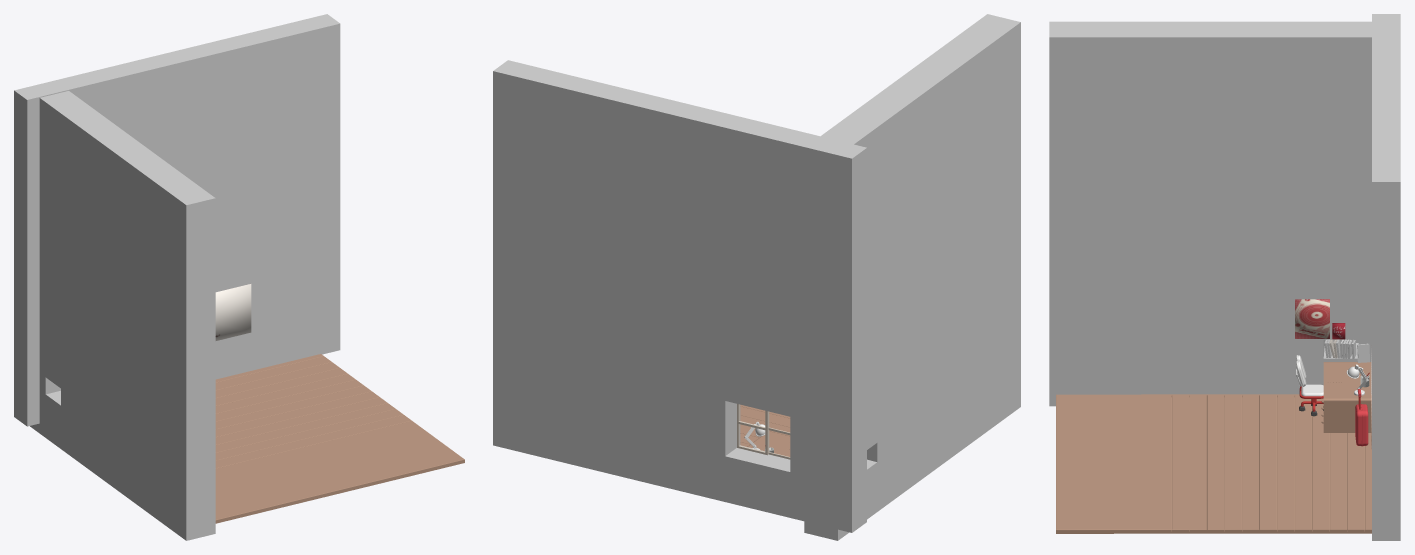
The model's file is full3.glb.
The picture shows the model from 3 angles, left to right: view 1: azimuth 30°, elevation 25°; view 2: azimuth 150°, elevation 25°; view 3: azimuth 270°, elevation 25°; orthographic projection. The views are drawn at different scales.
Parts seen in each view (by area): view 1: 큐브.002, 큐브.001, Body64, Body152; view 2: 큐브.001, 큐브.002, Body64; view 3: 큐브.002, Body64, 큐브.001, Body57, Body136.
Boxes of the visible parts, x1,y1,x2,y2 form: 큐브.002: (30, 91, 215, 540); 큐브.001: (14, 14, 340, 426); Body64: (215, 354, 464, 523); Body152: (215, 283, 251, 340); 큐브.001: (493, 60, 866, 532); 큐브.002: (804, 14, 1020, 540); Body64: (740, 404, 790, 446); 큐브.002: (1049, 21, 1371, 406); Body64: (1056, 394, 1371, 533); 큐브.001: (1372, 14, 1400, 540); Body57: (1323, 362, 1371, 432); Body136: (1295, 299, 1329, 338).
Bounding box in the file's own units: 0.9062 × 0.9306 × 0.8009.
12 materials, 4 textured.
